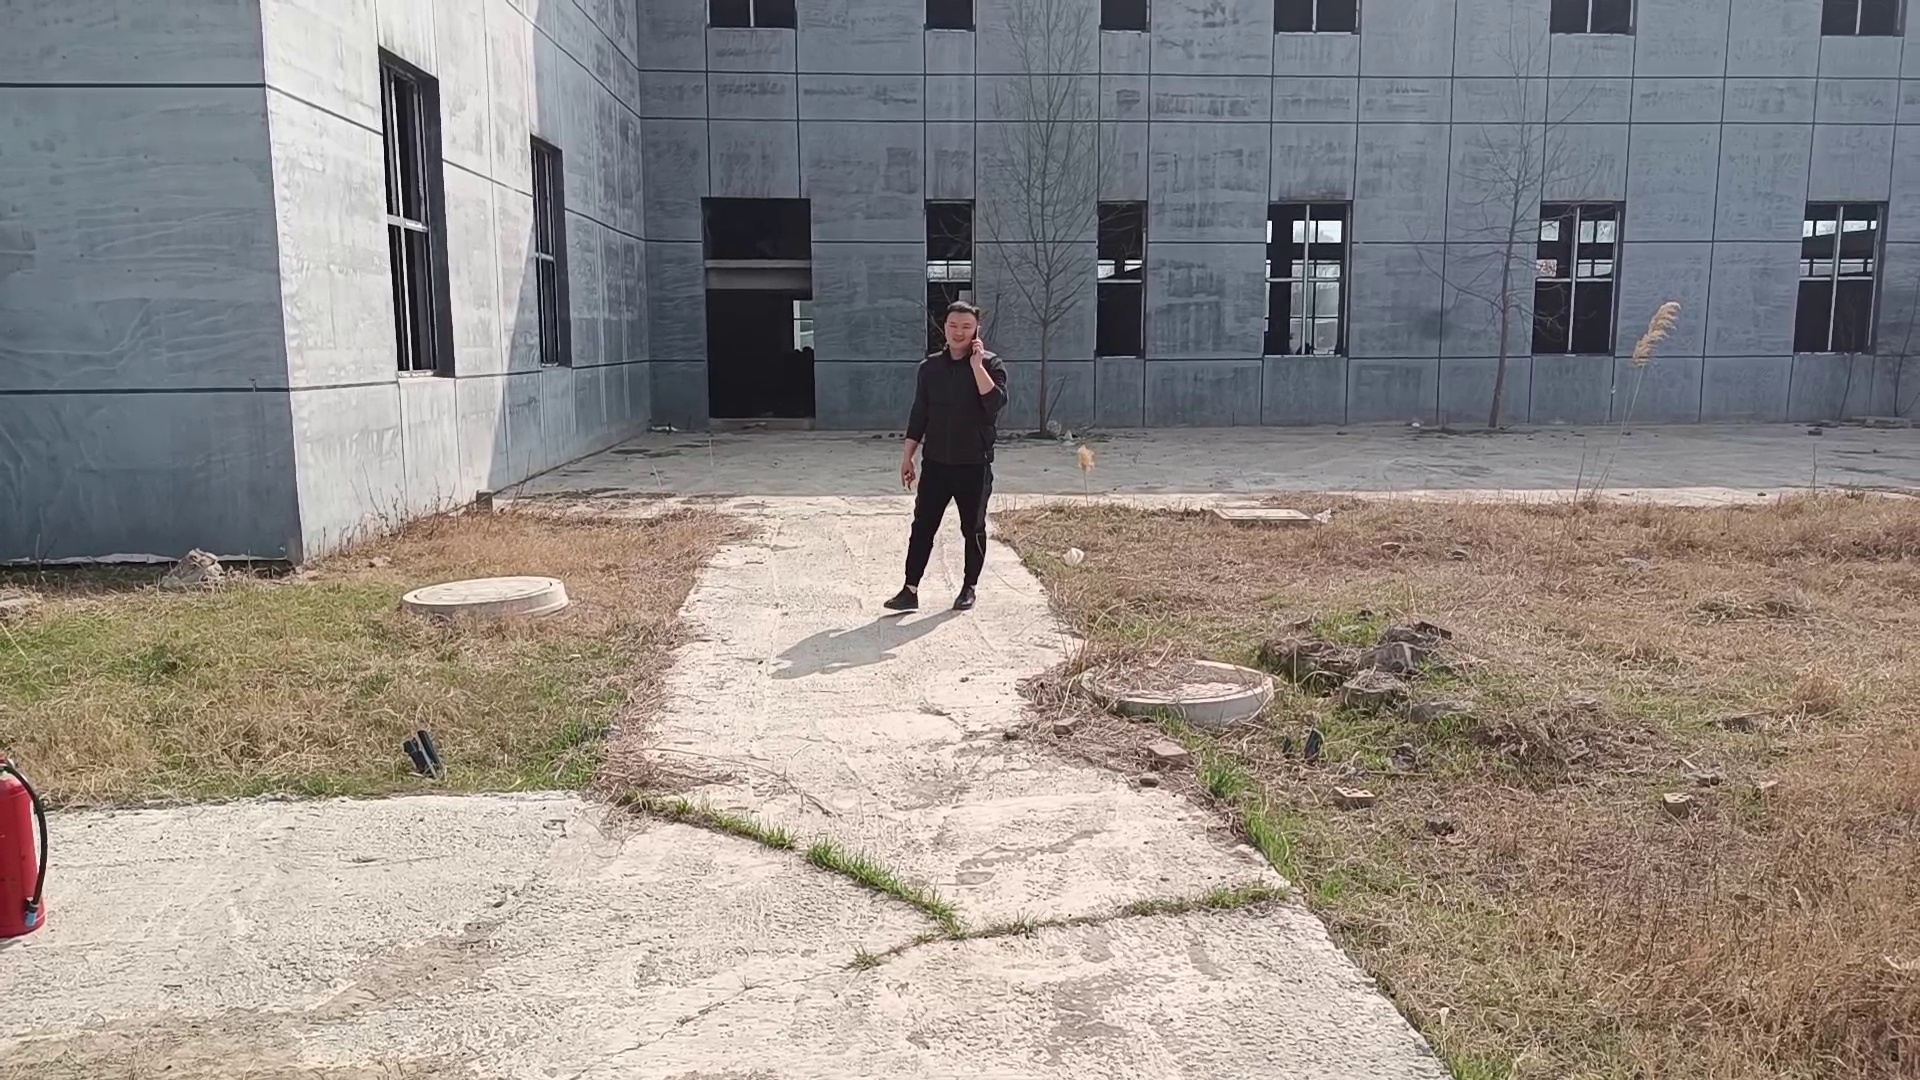phone: (935, 297, 989, 364)
